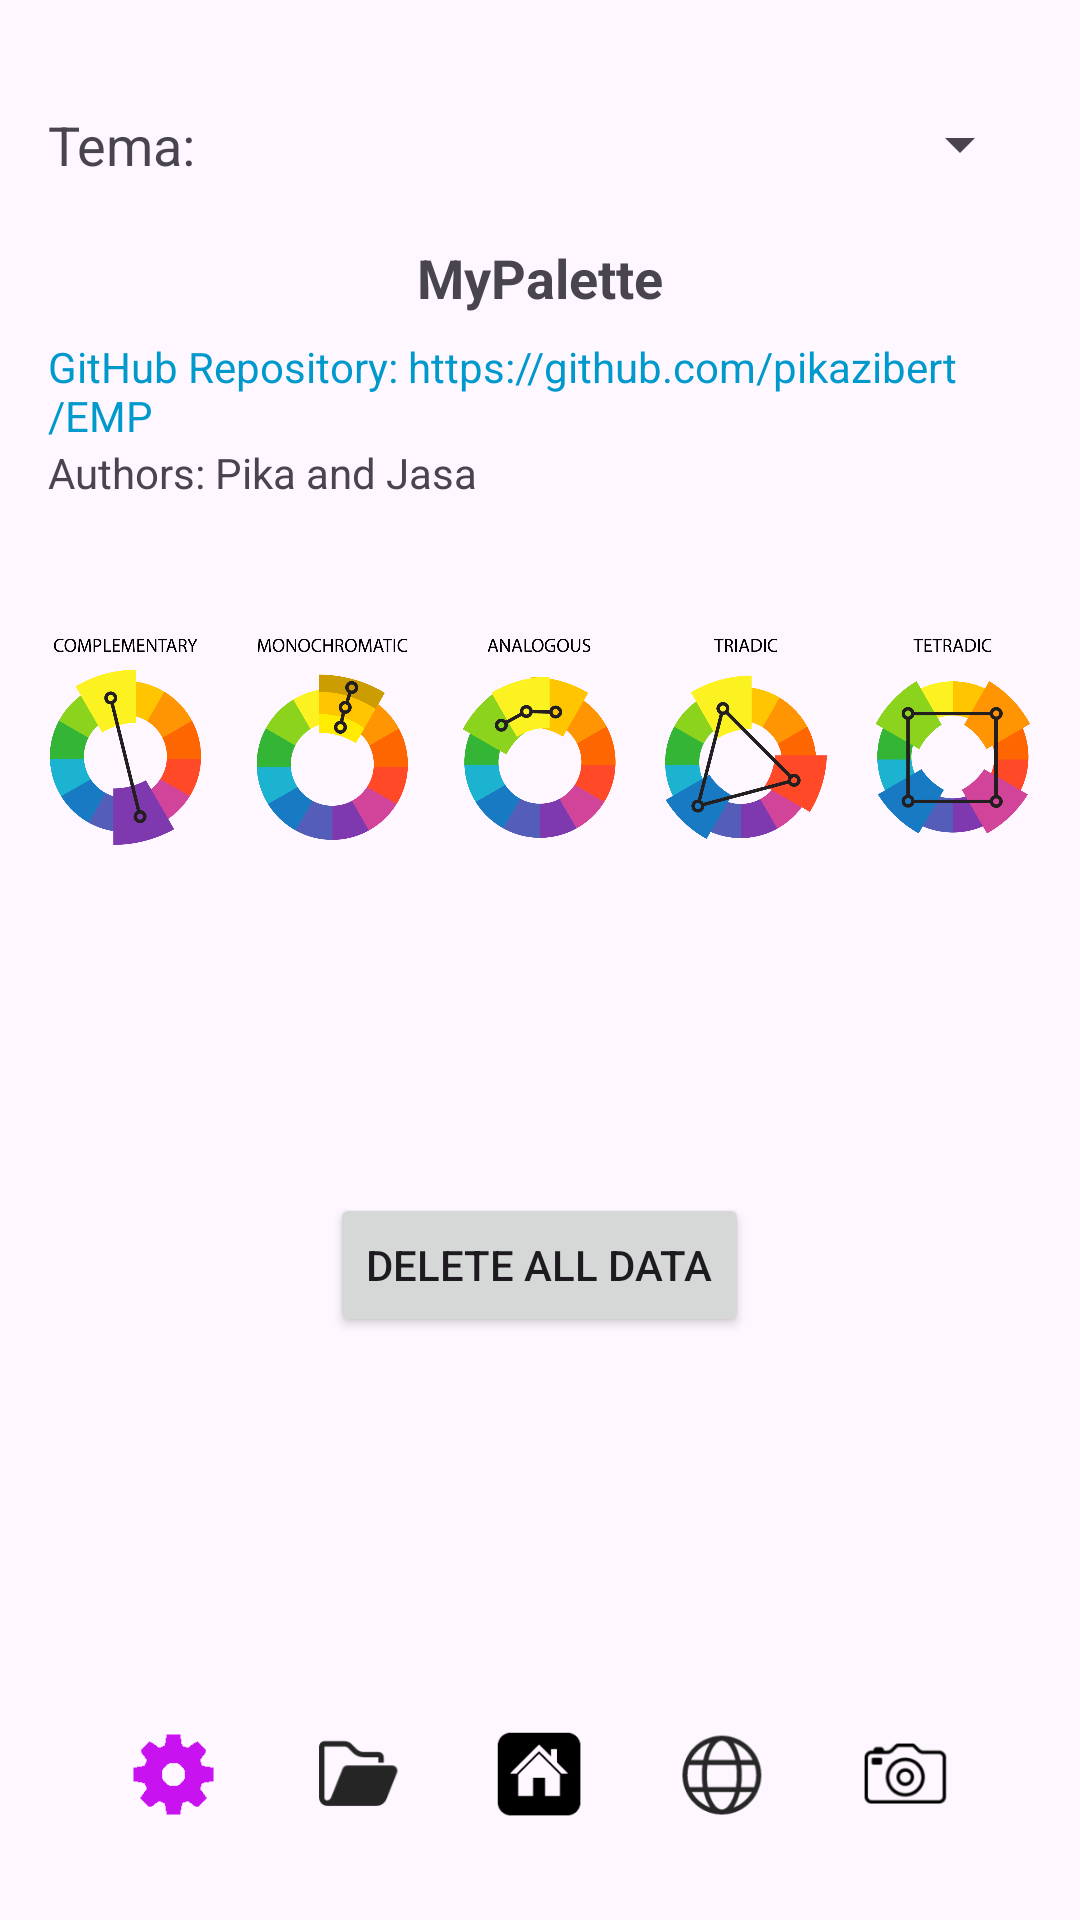

Named icons in this screenshot (1080*1920) and their bounding boxes, (x1, y1, x2, y2):
camera: (864, 1743, 947, 1804)
home: (497, 1732, 581, 1816)
open: (319, 1740, 398, 1806)
settings current: (133, 1734, 214, 1815)
